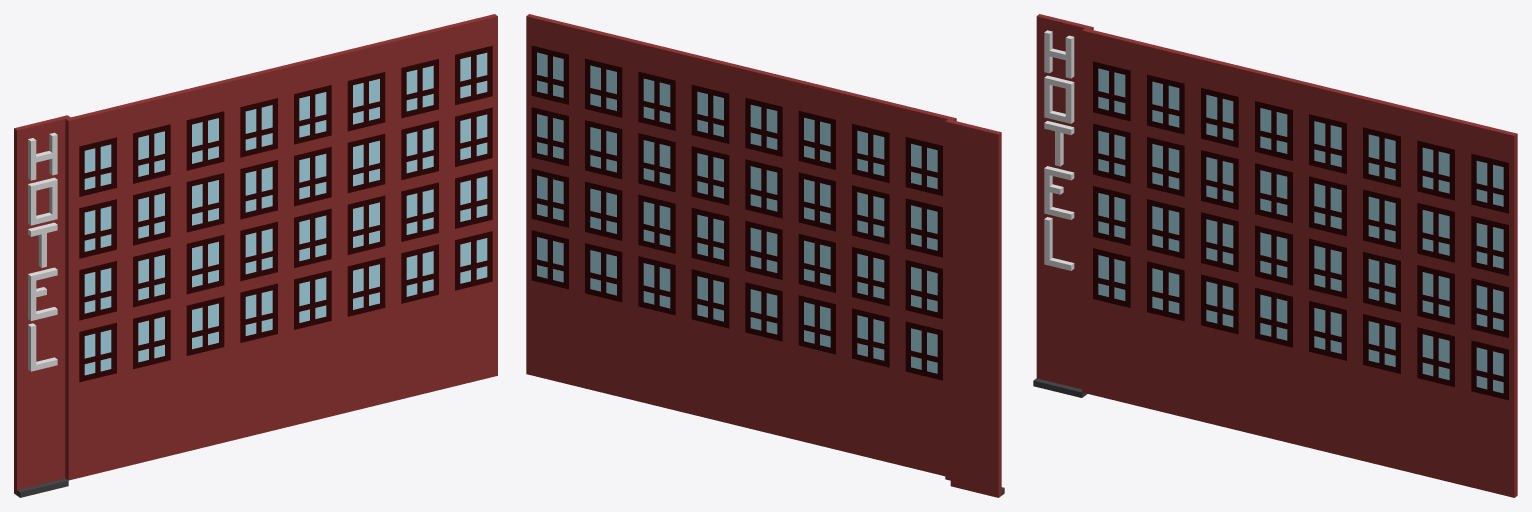
Rendered from hotel no details-3.obj.
3 views of the same model, side by side, from view 1: azimuth 30°, elevation 25°; view 2: azimuth 150°, elevation 25°; view 3: azimuth 330°, elevation 25° (orthographic).
Visible parts, largest first — view 1: hotel no details-3; view 2: hotel no details-3; view 3: hotel no details-3.
Part boxes in pixels (bbox=[...]): hotel no details-3: bbox=[14, 14, 497, 497]; hotel no details-3: bbox=[526, 14, 1004, 497]; hotel no details-3: bbox=[1033, 14, 1517, 497].
Bounding box in the file's own units: 89 × 65 × 2.
1 material, 1 textured.
